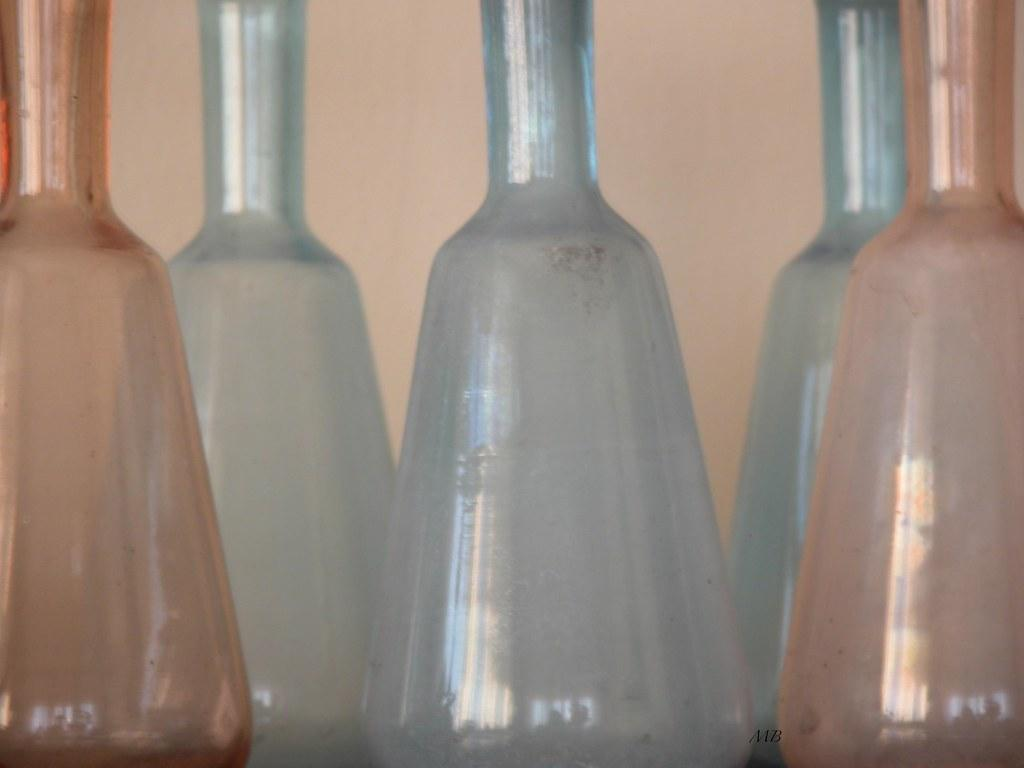bottle: (360, 1, 757, 768), (1, 1, 254, 768), (775, 1, 1024, 767), (165, 1, 397, 767), (727, 1, 911, 765)
